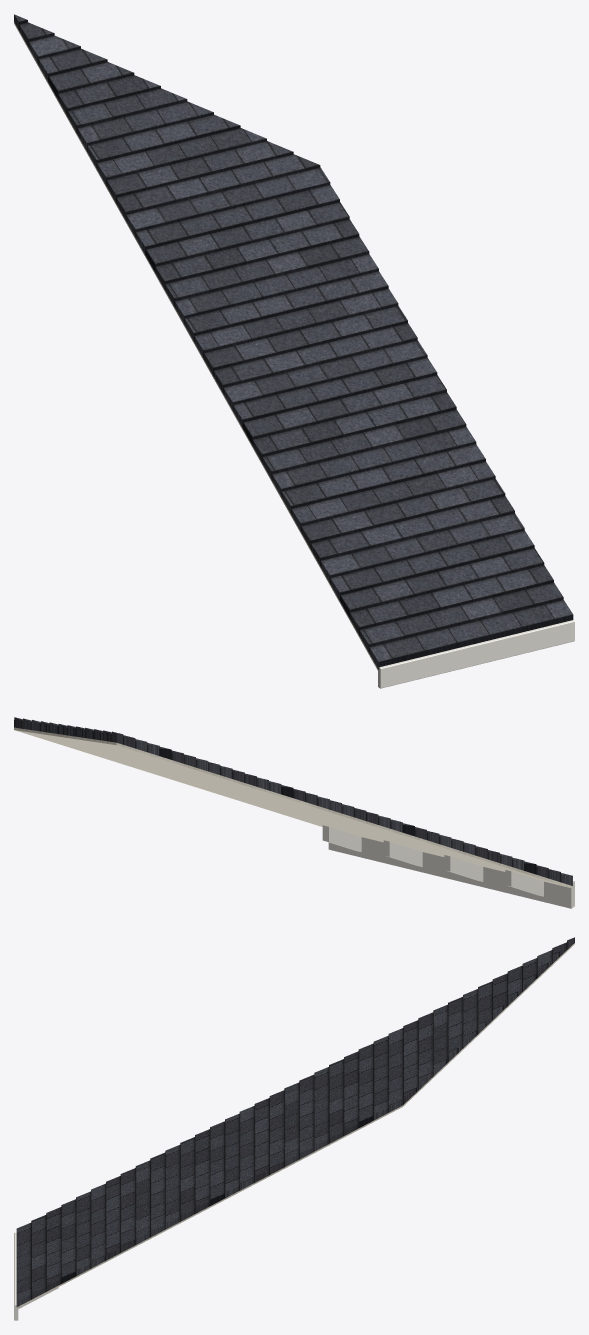
Rendered from roof_main_2_porch.glb.
3 views of the same model, one above another, from view 1: azimuth 30°, elevation 25°; view 2: azimuth 150°, elevation 25°; view 3: azimuth 270°, elevation 25° (orthographic). The views are drawn at different scales.
Parts seen in each view (by area): view 1: roof_main_2_porch_shingles, roof_main_2_porch_trim, roof_main_2_porch_plaster; view 2: roof_main_2_porch_plaster, roof_main_2_porch_shingles, roof_main_2_porch_trim; view 3: roof_main_2_porch_shingles, roof_main_2_porch_plaster.
Boxes of the visible parts, x1,y1,x2,y2 form: roof_main_2_porch_shingles: (14, 14, 573, 669); roof_main_2_porch_trim: (378, 620, 574, 688); roof_main_2_porch_plaster: (14, 22, 378, 671); roof_main_2_porch_plaster: (14, 727, 572, 888); roof_main_2_porch_shingles: (14, 717, 572, 885); roof_main_2_porch_trim: (322, 825, 574, 908); roof_main_2_porch_shingles: (16, 937, 574, 1306); roof_main_2_porch_plaster: (16, 943, 574, 1308).
Size of the model in its own units: 2 by 3.99 by 6.53.
Materials: 3 (2 with a texture image).
